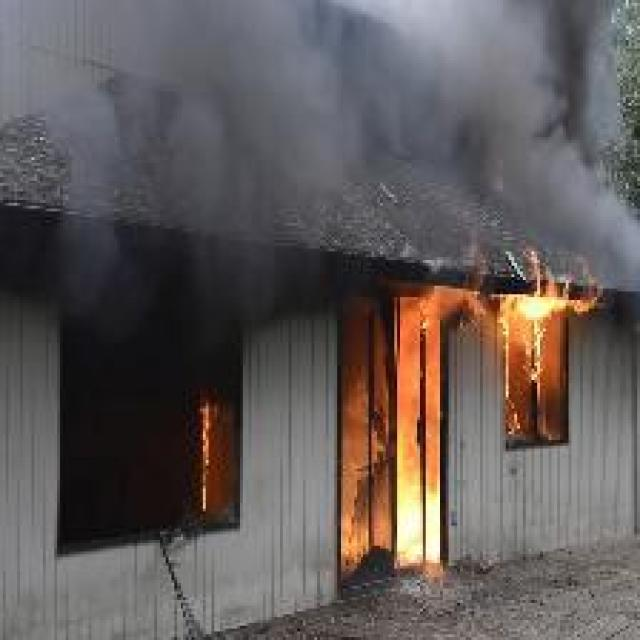fire: (379, 273, 478, 570), (490, 251, 598, 439), (188, 395, 222, 511)
smoke: (139, 6, 614, 219)
